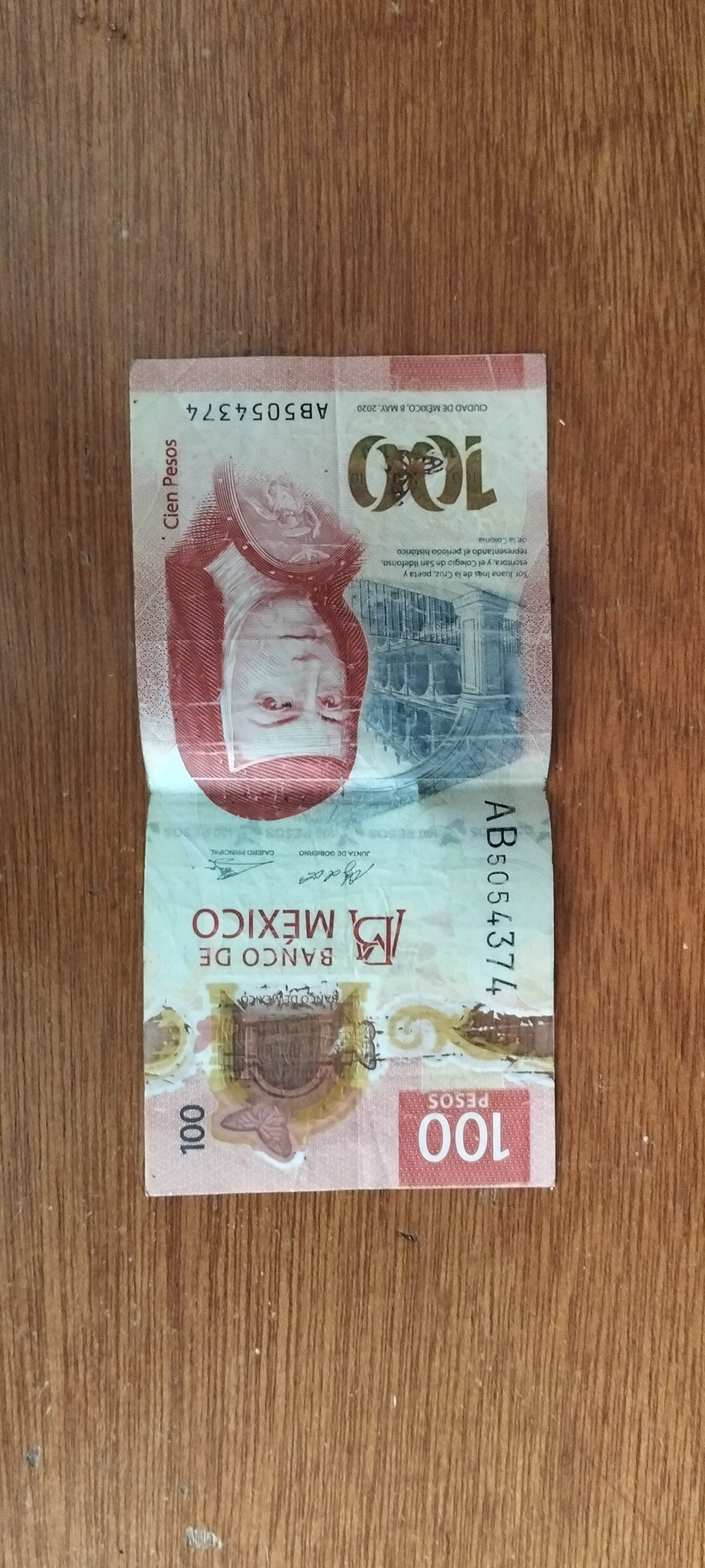billetes: (119, 343, 578, 1200)
